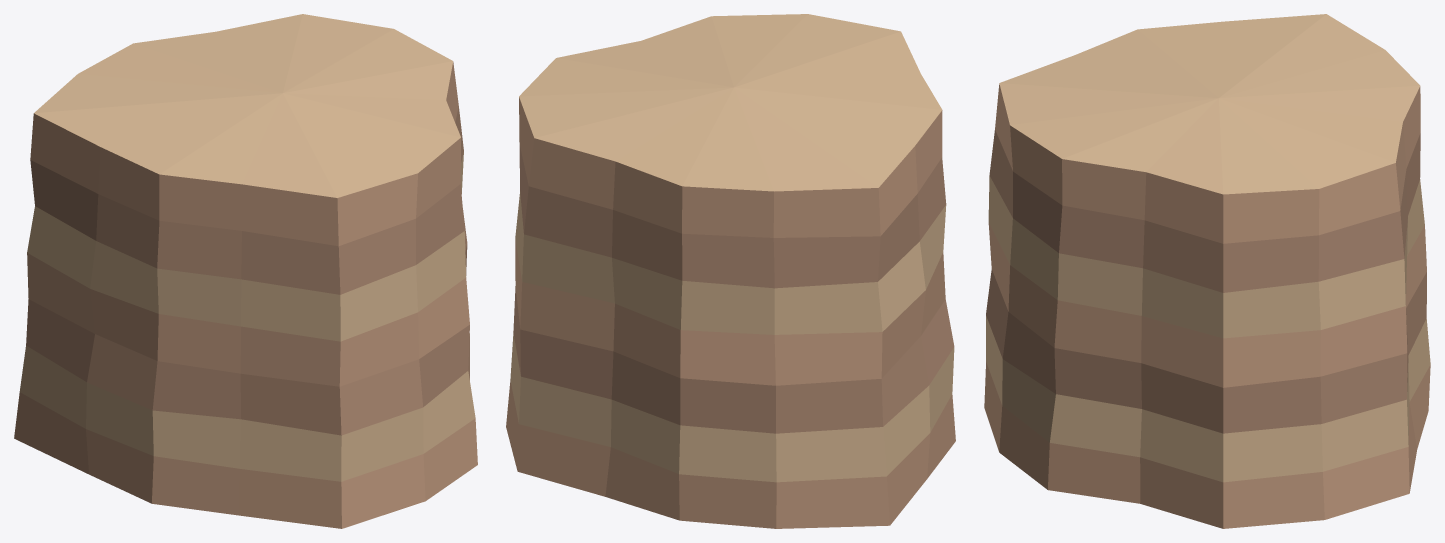
The model's file is desert_Mesa.fbx.
3 views of the same model, side by side, from view 1: azimuth 30°, elevation 25°; view 2: azimuth 150°, elevation 25°; view 3: azimuth 270°, elevation 25° (orthographic).
Parts seen in each view (by area): view 1: Mesa; view 2: Mesa; view 3: Mesa.
Boxes of the visible parts, x1,y1,x2,y2 form: Mesa: (14, 14, 477, 528); Mesa: (506, 14, 955, 528); Mesa: (984, 14, 1430, 528).
Bounding box in the file's own units: 5.42 × 4.35 × 5.21.
